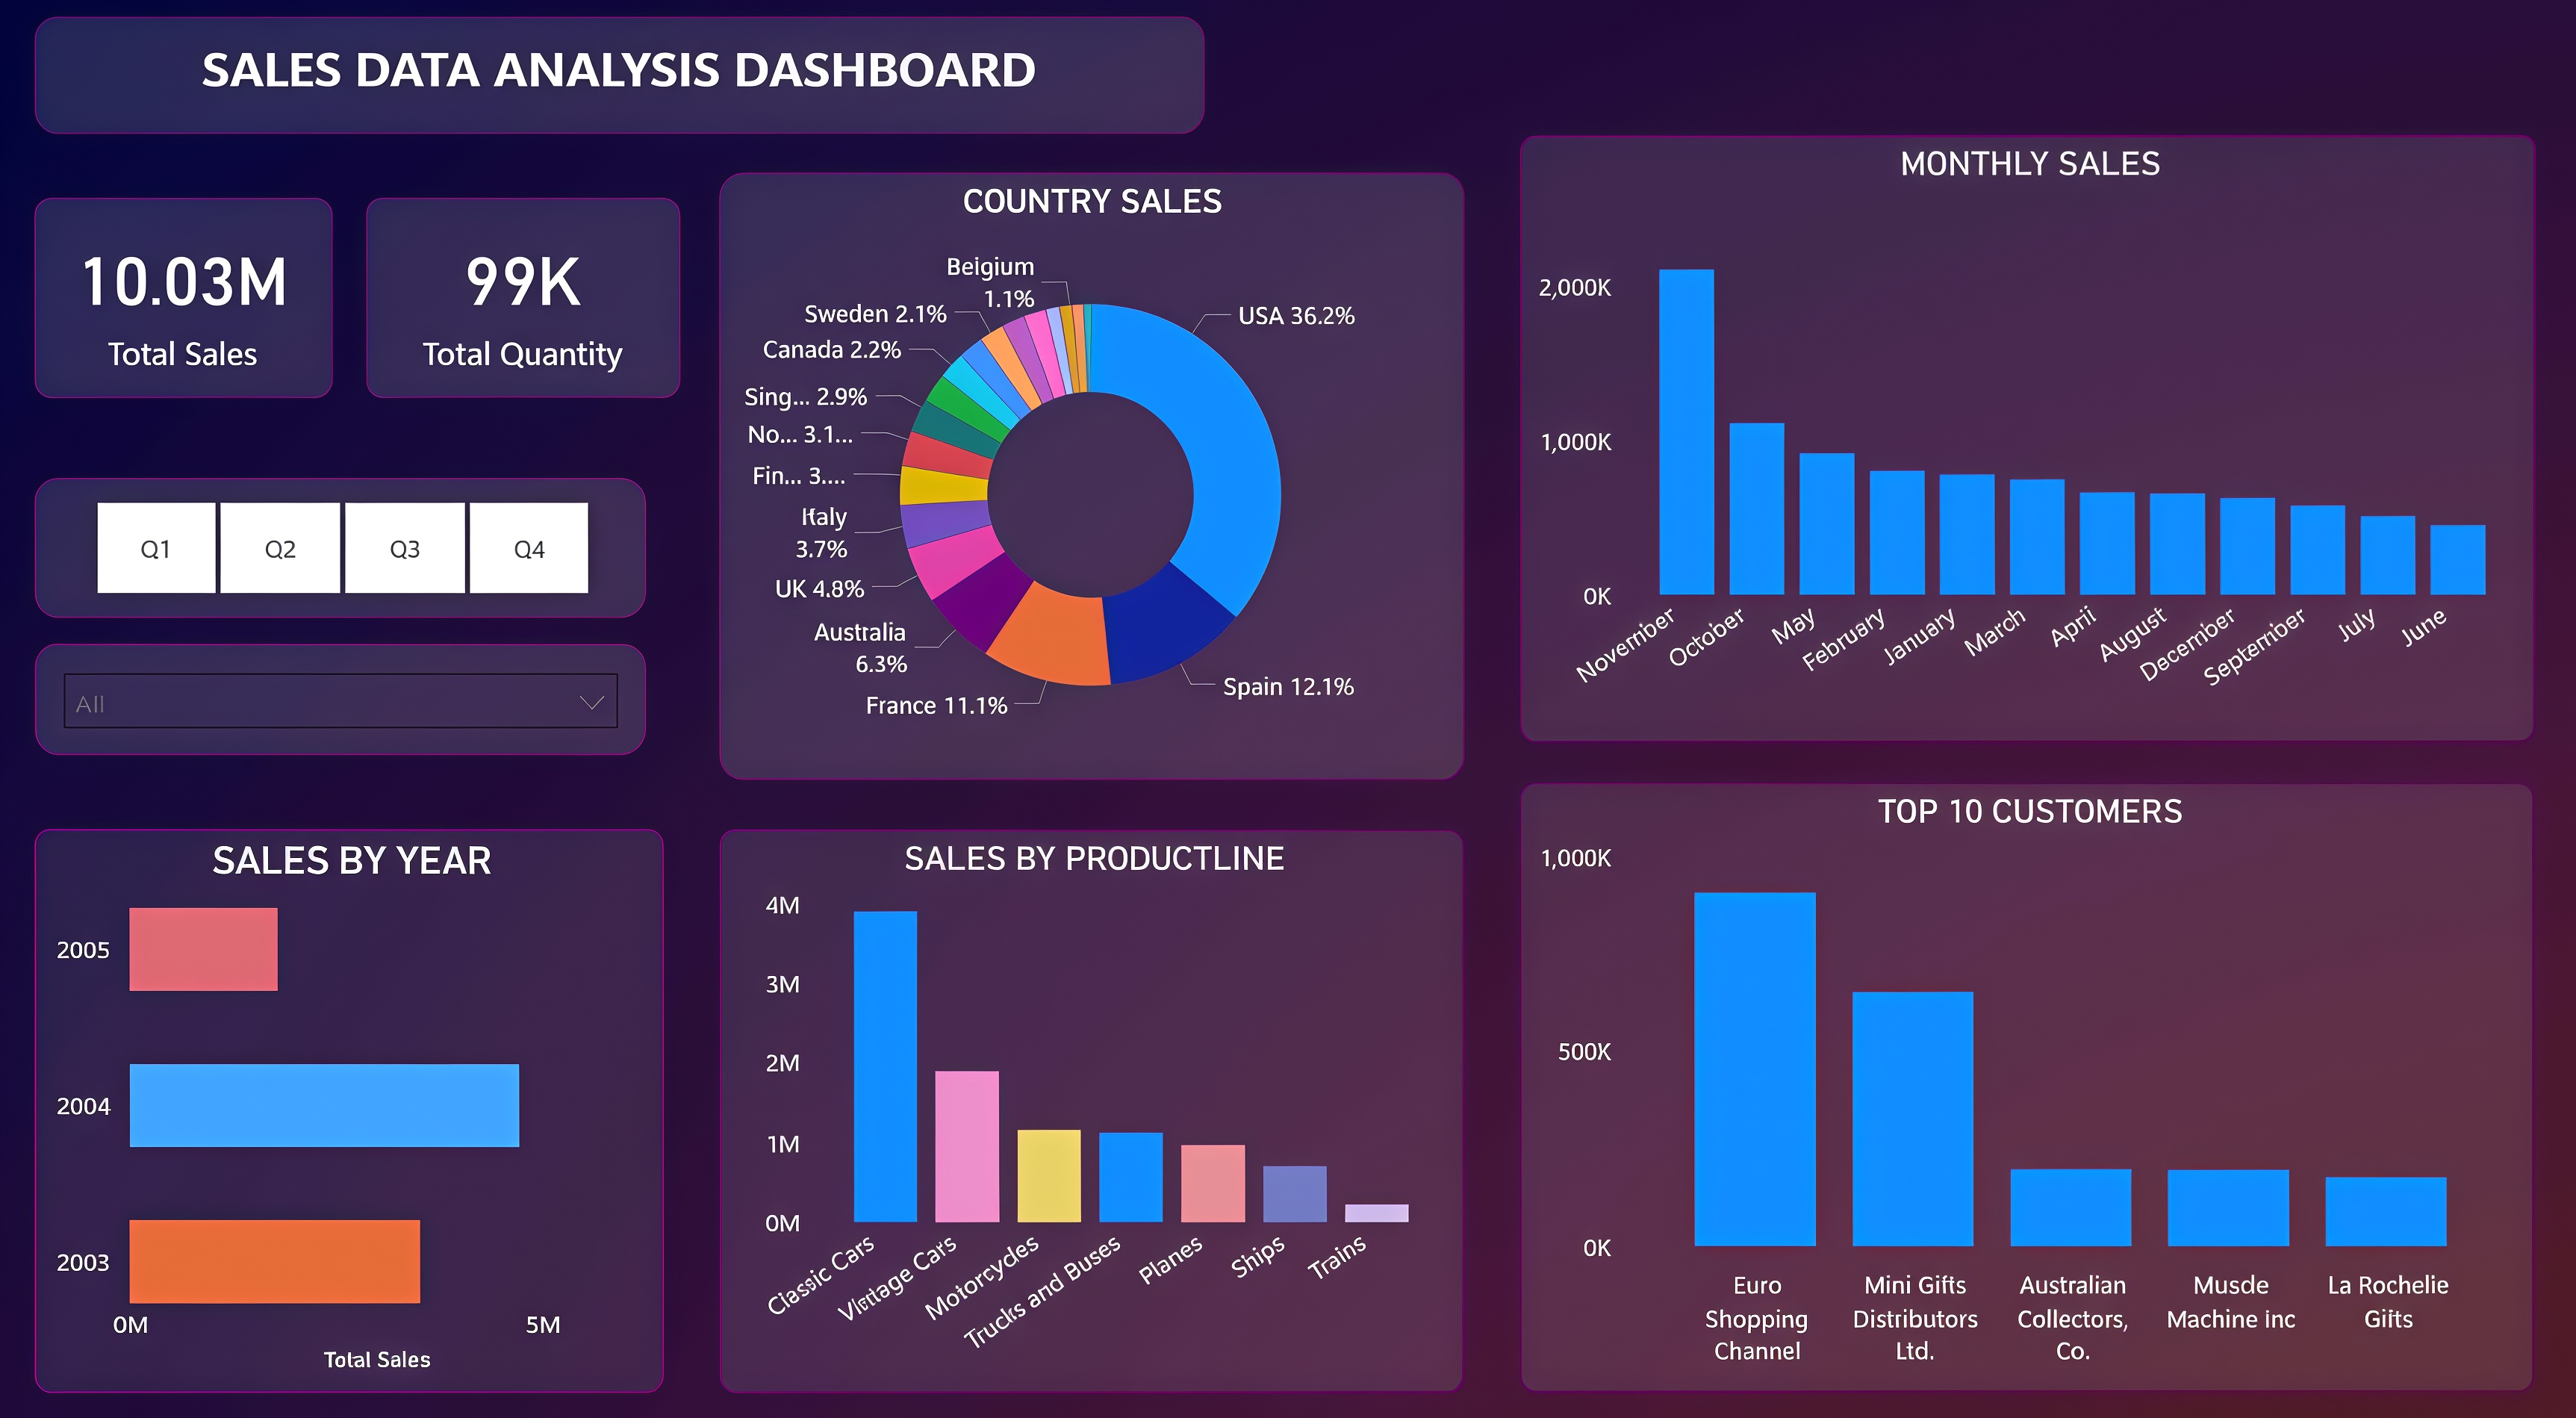

Layout of this report page (visuals, bound fields, positions):
{"tool":"powerbi","page":{"name":"Page 1","canvas":[1280,720],"ordinal":0},"visuals":[{"type":"textbox","box":[17.4,16.3,579.1,58.1],"z":0},{"type":"barChart","title":"SALES BY YEAR","fields":{"Category":["sales_data_sample_cleaned.ORDERE_YEAR"],"Y":["sales_data_sample_cleaned.Total Sales"]},"box":[17.4,417.4,311.6,279.1],"z":1000},{"type":"columnChart","title":"SALES BY PRODUCTLINE","fields":{"Category":["sales_data_sample_cleaned.PRODUCTLINE"],"Y":["sales_data_sample_cleaned.Total Sales"]},"box":[355.8,417.4,368.6,279.1],"z":2000},{"type":"pieChart","title":"COUNTRY SALES","fields":{"Y":["sales_data_sample_cleaned.Total Sales"],"Category":["sales_data_sample_cleaned.COUNTRY"]},"box":[355.8,93,368.6,301.2],"z":3000},{"type":"columnChart","title":"TOP 10 CUSTOMERS","fields":{"Category":["sales_data_sample_cleaned.CUSTOMERNAME"],"Y":["sales_data_sample_cleaned.Total Sales"]},"box":[751.2,394.2,502.3,302.3],"z":4000},{"type":"card","fields":{"Values":["sales_data_sample_cleaned.Total Sales"]},"box":[17.4,105.8,147.7,98.8],"z":5000},{"type":"card","fields":{"Values":["sales_data_sample_cleaned.Total Quantity"]},"box":[181.4,105.8,155.8,98.8],"z":6000},{"type":"columnChart","title":"MONTHLY SALES","fields":{"Y":["sales_data_sample_cleaned.Total Sales"],"Category":["sales_data_sample_cleaned.ORDER_MONTH_NAME"]},"box":[751.2,74.4,502.3,301.2],"z":7000},{"type":"slicer","fields":{"Values":["sales_data_sample_cleaned.Quarter"]},"box":[17.4,244.2,303.5,69.8],"z":8000},{"type":"slicer","fields":{"Values":["sales_data_sample_cleaned.COUNTRY"]},"box":[17.4,325.6,303.5,55.8],"z":8001}]}

Visuals, with their boxes in screenshot pixels (x1, y1, x2, y2), scaled from the page's 1280x720 canvas onto the 2576x1418 screenshot:
textbox: 35, 32, 1201, 146
"SALES BY YEAR" barChart: 35, 822, 662, 1372
"SALES BY PRODUCTLINE" columnChart: 716, 822, 1457, 1372
"COUNTRY SALES" pieChart: 716, 183, 1457, 777
"TOP 10 CUSTOMERS" columnChart: 1512, 777, 2523, 1372
card - sales_data_sample_cleaned.Total Sales: 35, 208, 332, 403
card - sales_data_sample_cleaned.Total Quantity: 365, 208, 679, 403
"MONTHLY SALES" columnChart: 1512, 146, 2523, 740
slicer - sales_data_sample_cleaned.Quarter: 35, 481, 646, 618
slicer - sales_data_sample_cleaned.COUNTRY: 35, 641, 646, 751
